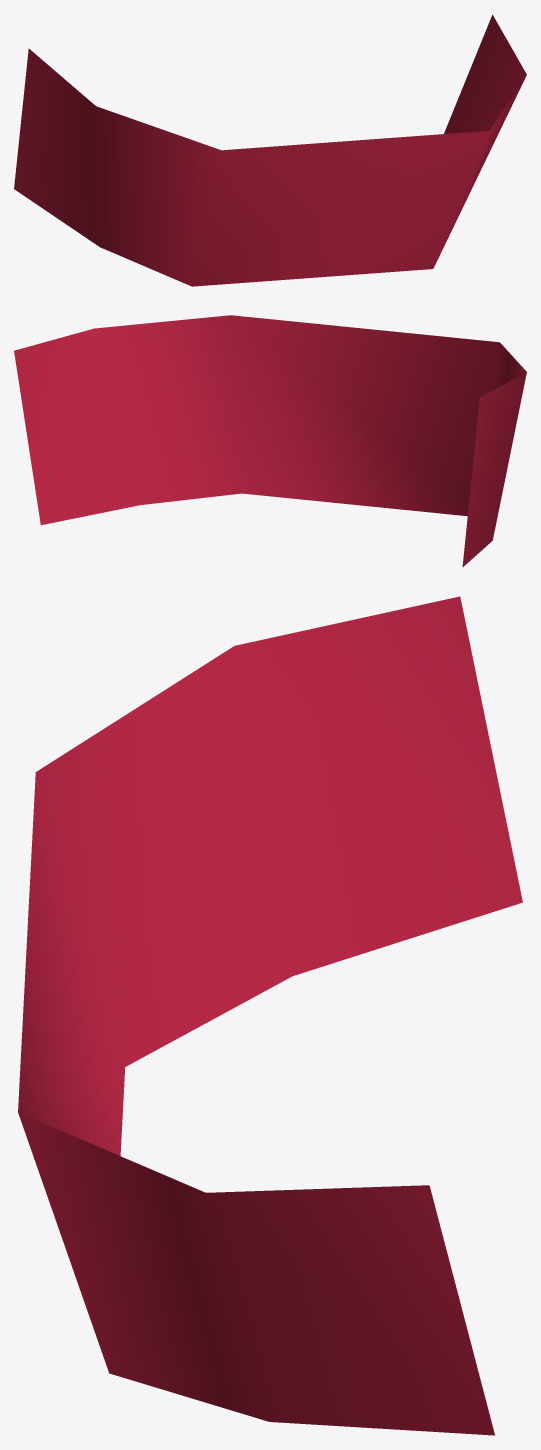
3 renders of one model, top to bottom at view 1: azimuth 30°, elevation 25°; view 2: azimuth 150°, elevation 25°; view 3: azimuth 270°, elevation 25°, orthographic. The views are drawn at different scales.
Visible parts, largest first — view 1: ef_448; view 2: ef_448; view 3: ef_448.
Boxes of the visible parts, <box> form: ef_448: <box>14,14,526,286</box>; ef_448: <box>14,315,526,566</box>; ef_448: <box>18,596,522,1435</box>.
Bounding box in the file's own units: 0.9176 × 0.4496 × 0.4399.
1 material, 1 textured.
